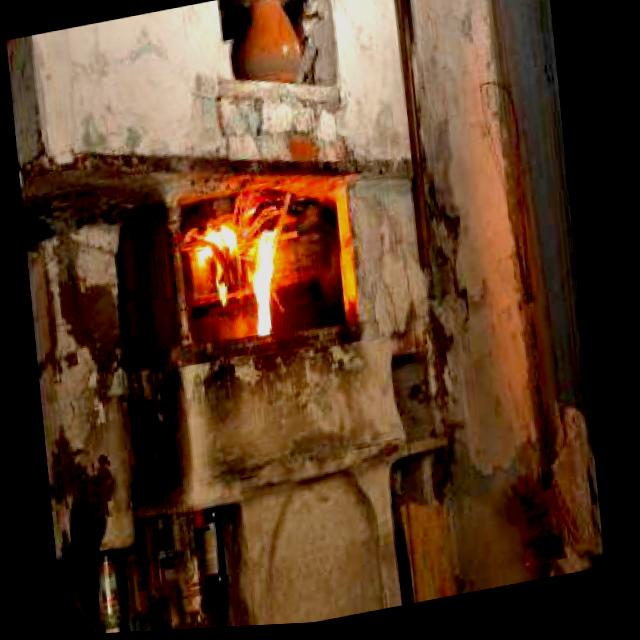Fire: (187, 206, 312, 364)
